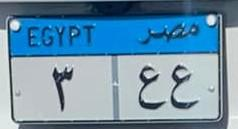3: (47, 65, 81, 113)
ain: (169, 61, 202, 112), (134, 63, 166, 113)
